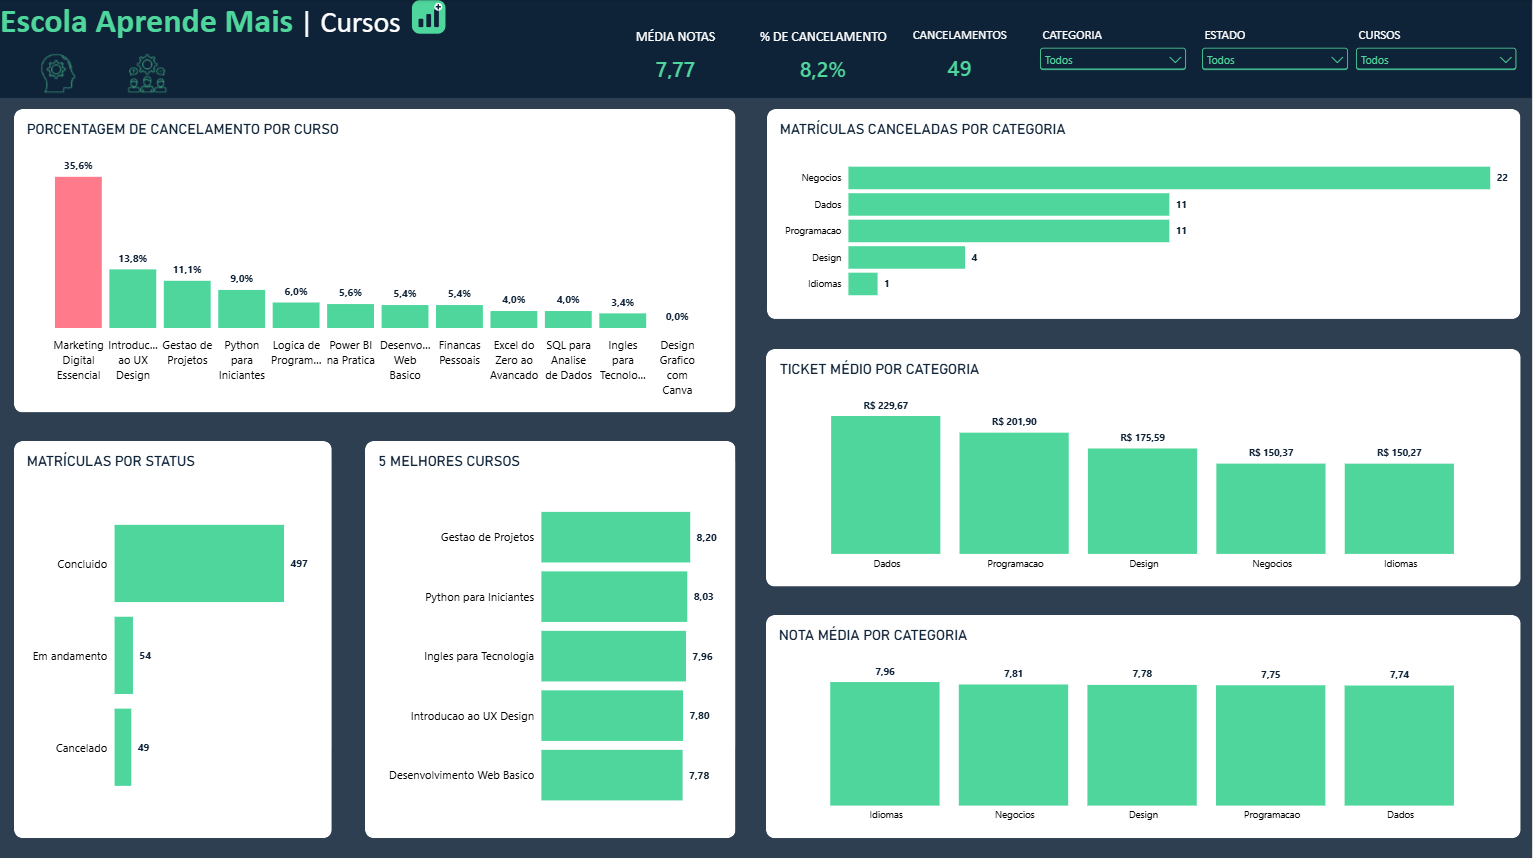

Layout of this report page (visuals, bound fields, positions):
{"tool":"powerbi","page":{"name":"visão cursos","canvas":[1920,1080],"ordinal":1},"visuals":[{"type":"textbox","box":[0,0,1919.4,124],"z":0},{"type":"shape","box":[17.9,137.8,904.2,380.4],"z":1000},{"type":"shape","box":[457.6,554.1,464.5,497.6],"z":2000},{"type":"shape","box":[960.7,137.8,944.1,263.3],"z":3000},{"type":"shape","box":[17.9,554.1,398.3,497.6],"z":4000},{"type":"shape","box":[959.3,438.3,945.5,297.7],"z":5000},{"type":"shape","box":[959.3,771.9,945.5,279.8],"z":6000},{"type":"cardVisual","title":"MÉDIA NOTAS","fields":{"Data":["matriculas.nota média"]},"box":[749.8,34.5,194.1,66],"z":7000},{"type":"cardVisual","title":"% DE CANCELAMENTO","fields":{"Data":["matriculas.% cancelamento"]},"box":[944.1,34.5,173.7,66.2],"z":8000},{"type":"cardVisual","title":"CANCELAMENTOS","fields":{"Data":["matriculas.matriculas canceladas"]},"box":[1117.8,34.5,169.5,66],"z":9000},{"type":"slicer","title":"CATEGORIA","fields":{"Values":["cursos.categoria"]},"box":[1298,35.1,192.8,75],"z":10000},{"type":"slicer","title":"CATEGORIA","fields":{"Values":["alunos.estado"]},"box":[1500.8,34.9,192.8,75],"z":11000},{"type":"slicer","title":"CATEGORIA","fields":{"Values":["cursos.nome_curso"]},"box":[1693.6,34.9,210.9,75],"z":12000},{"type":"columnChart","title":"PORCENTAGEM DE CANCELAMENTO POR CURSO","fields":{"Category":["cursos.nome_curso"],"Y":["matriculas.% cancelamento"]},"box":[17.9,137.8,904.2,380.4],"z":18001},{"type":"barChart","title":"MATRÍCULAS POR STATUS","fields":{"Category":["matriculas.status"],"Y":["Count(matriculas.matricula_id)"]},"box":[17.9,554.1,398.3,497.6],"z":18002},{"type":"barChart","title":"5 MELHORES CURSOS","fields":{"Category":["cursos.nome_curso"],"Y":["matriculas.nota média"]},"box":[457.6,554.1,464.5,497.6],"z":18003},{"type":"barChart","title":"MATRÍCULAS CANCELADAS POR CATEGORIA","fields":{"Category":["cursos.categoria"],"Y":["matriculas.matriculas canceladas"]},"box":[960.7,137.8,944.1,263.3],"z":18004},{"type":"columnChart","title":"TICKET MÉDIO POR CATEGORIA","fields":{"Category":["cursos.categoria"],"Y":["matriculas.ticket médio"]},"box":[960.7,438.3,944.1,297.7],"z":18005},{"type":"columnChart","title":"NOTA MÉDIA POR CATEGORIA","fields":{"Category":["cursos.categoria"],"Y":["matriculas.nota média"]},"box":[959.3,771.9,945.5,279.8],"z":18006},{"type":"actionButton","box":[17.5,62.6,111.5,61.4],"z":18007},{"type":"actionButton","box":[129,62.6,111.5,61.4],"z":18009},{"type":"image","box":[488.6,0,96.5,45.1],"z":18010}]}

Visuals, with their boxes in screenshot pixels (x1, y1, x2, y2), scaled from the page's 1920x1080 canvas onto the 1533x858 screenshot:
textbox: Rect(0, 0, 1532, 99)
shape: Rect(14, 109, 736, 412)
shape: Rect(365, 440, 736, 836)
shape: Rect(767, 109, 1521, 319)
shape: Rect(14, 440, 332, 836)
shape: Rect(766, 348, 1521, 585)
shape: Rect(766, 613, 1521, 836)
"MÉDIA NOTAS" cardVisual: Rect(599, 27, 754, 80)
"% DE CANCELAMENTO" cardVisual: Rect(754, 27, 892, 80)
"CANCELAMENTOS" cardVisual: Rect(892, 27, 1028, 80)
"CATEGORIA" slicer: Rect(1036, 28, 1190, 87)
"CATEGORIA" slicer: Rect(1198, 28, 1352, 87)
"CATEGORIA" slicer: Rect(1352, 28, 1521, 87)
"PORCENTAGEM DE CANCELAMENTO POR CURSO" columnChart: Rect(14, 109, 736, 412)
"MATRÍCULAS POR STATUS" barChart: Rect(14, 440, 332, 836)
"5 MELHORES CURSOS" barChart: Rect(365, 440, 736, 836)
"MATRÍCULAS CANCELADAS POR CATEGORIA" barChart: Rect(767, 109, 1521, 319)
"TICKET MÉDIO POR CATEGORIA" columnChart: Rect(767, 348, 1521, 585)
"NOTA MÉDIA POR CATEGORIA" columnChart: Rect(766, 613, 1521, 836)
actionButton: Rect(14, 50, 103, 99)
actionButton: Rect(103, 50, 192, 99)
image: Rect(390, 0, 467, 36)
